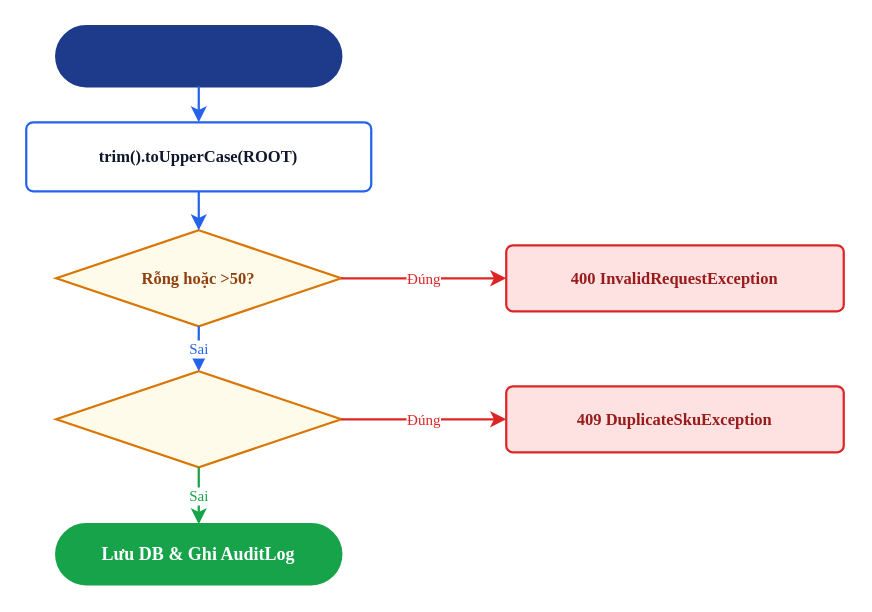
Image size: 872x612. Some labels were removed from this diagram. The shapes that lost their labels are listed below. From the top down, each one's box as (x1, y1, x2, y2) in pixels, then its label:
(54, 24, 342, 87): Bắt đầu (ProductRequest)
(54, 369, 342, 468): IgnoreCase trùng?
